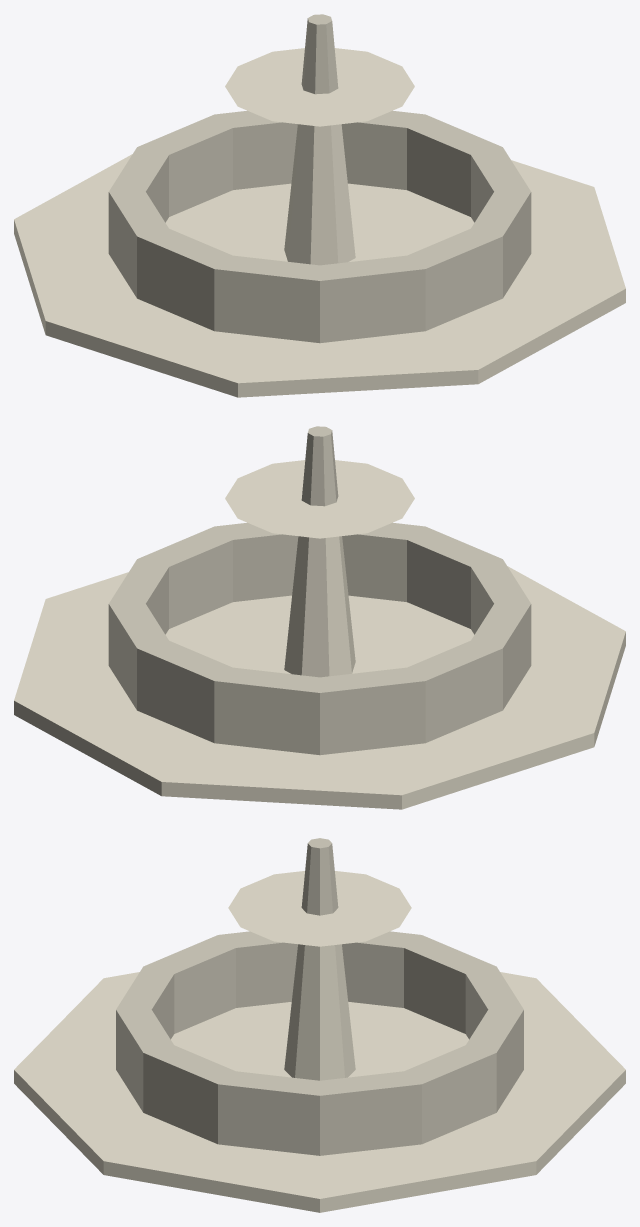
The model's file is fountain-plaza.glb.
3 views of the same model, one above another, from view 1: azimuth 30°, elevation 25°; view 2: azimuth 150°, elevation 25°; view 3: azimuth 270°, elevation 25° (orthographic). The views are drawn at different scales.
Parts seen in each view (by area): view 1: fountain-plaza; view 2: fountain-plaza; view 3: fountain-plaza.
Boxes of the visible parts, <box> form: fountain-plaza: <box>14,14,625,397</box>; fountain-plaza: <box>14,426,625,809</box>; fountain-plaza: <box>14,838,625,1212</box>.
Bounding box in the file's own units: 6 × 2.6 × 6.
